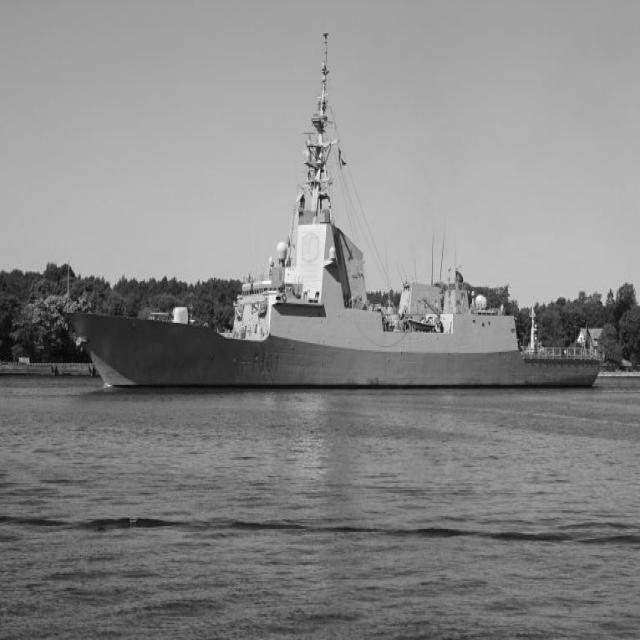Fragata: (55, 29, 608, 395)
